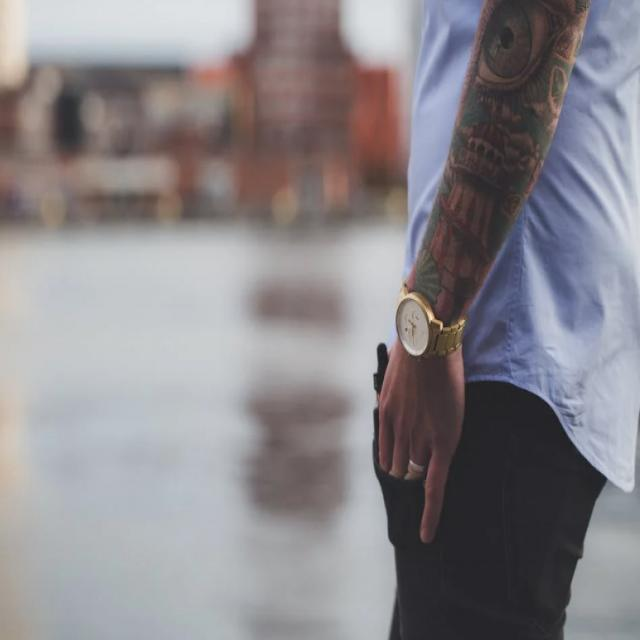Watch: (393, 280, 467, 364)
